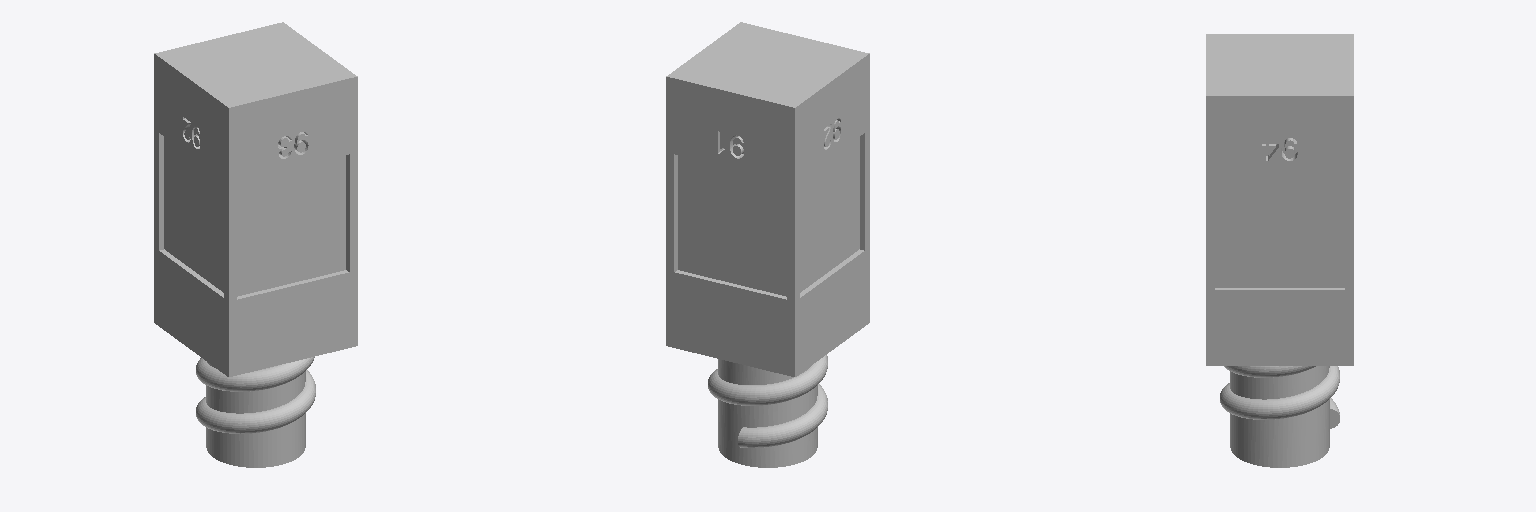
File: chair_leg1.obj
The picture shows the model from 3 angles: view 1: azimuth 30°, elevation 25°; view 2: azimuth 150°, elevation 25°; view 3: azimuth 270°, elevation 25°; orthographic projection.
Visible parts, largest first — view 1: chair_leg1, chair_leg1.003, chair_leg1.002; view 2: chair_leg1, chair_leg1.001, chair_leg1.002; view 3: chair_leg1, chair_leg1.004.
Boxes of the visible parts, <box> form: chair_leg1: <box>154,22,357,467</box>; chair_leg1.003: <box>237,154,349,299</box>; chair_leg1.002: <box>159,133,223,297</box>; chair_leg1: <box>666,22,869,467</box>; chair_leg1.001: <box>674,154,786,299</box>; chair_leg1.002: <box>800,133,864,297</box>; chair_leg1: <box>1206,34,1353,467</box>; chair_leg1.004: <box>1215,172,1344,289</box>.
Size of the model in its own units: 0.03 by 0.085 by 0.03.